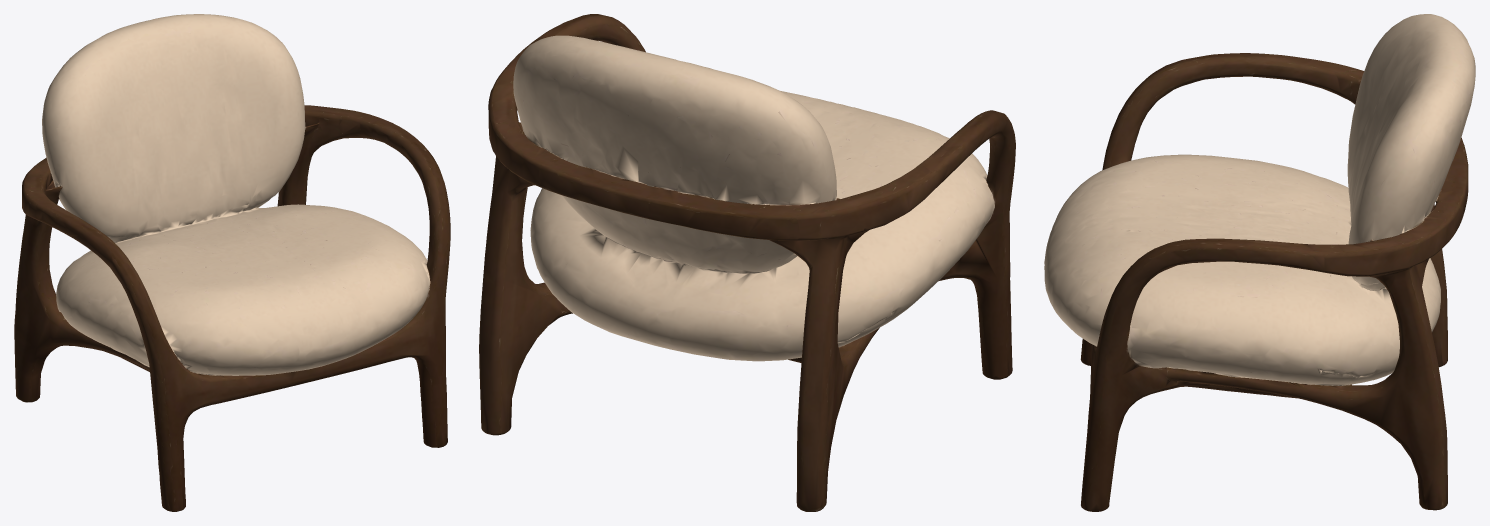
Rendered from walnut-boucle-chair.glb.
3 renders of one model, left to right at view 1: azimuth 30°, elevation 25°; view 2: azimuth 150°, elevation 25°; view 3: azimuth 270°, elevation 25°, orthographic. The views are drawn at different scales.
Visible parts, largest first — view 1: world; view 2: world; view 3: world.
Part boxes in pixels (x1,y1,x2,y2): world: [14, 14, 450, 511]; world: [479, 14, 1015, 511]; world: [1044, 14, 1475, 511].
Size of the model in its own units: 1 by 0.9222 by 0.9311.
1 material, 1 textured.
